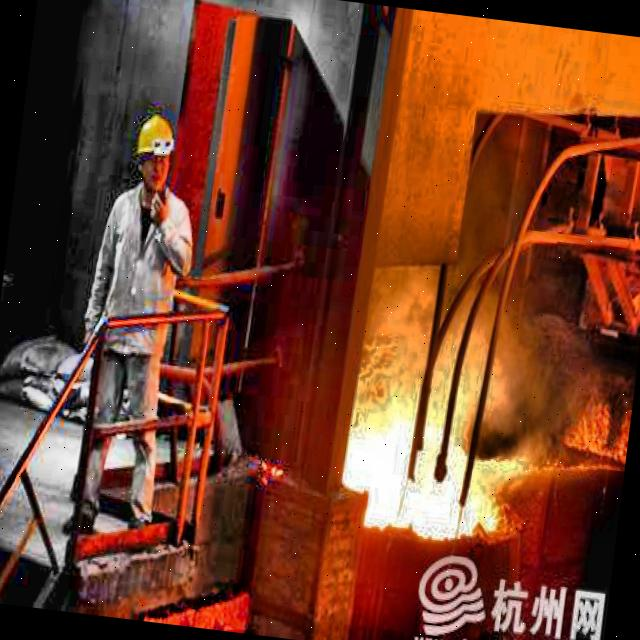helmet: (128, 106, 180, 199)
